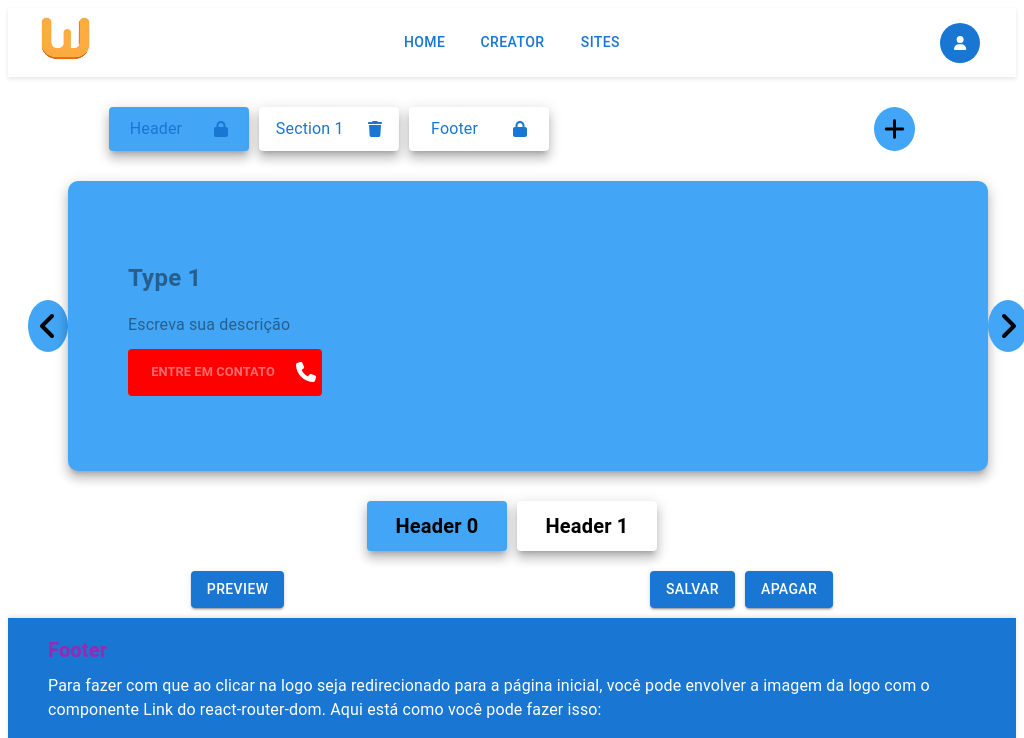
Test case: LPCreator › Should add new section when click
The width and height of the screenshot is (1024, 738).
Click the element with test id "add-section" at (895, 129), box [874,107,915,151]
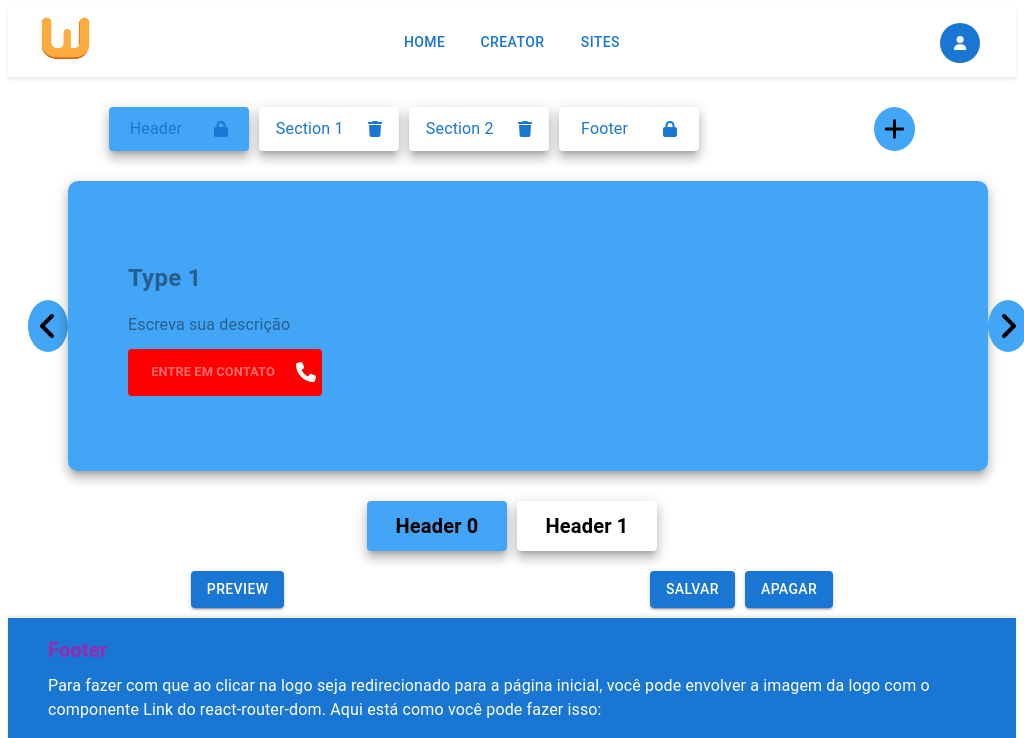
Now the text "Section 2" is shown, box [426,117,494,141]
